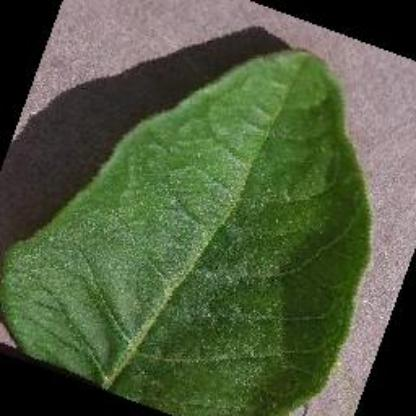Healthy-plant: (5, 37, 379, 415)
